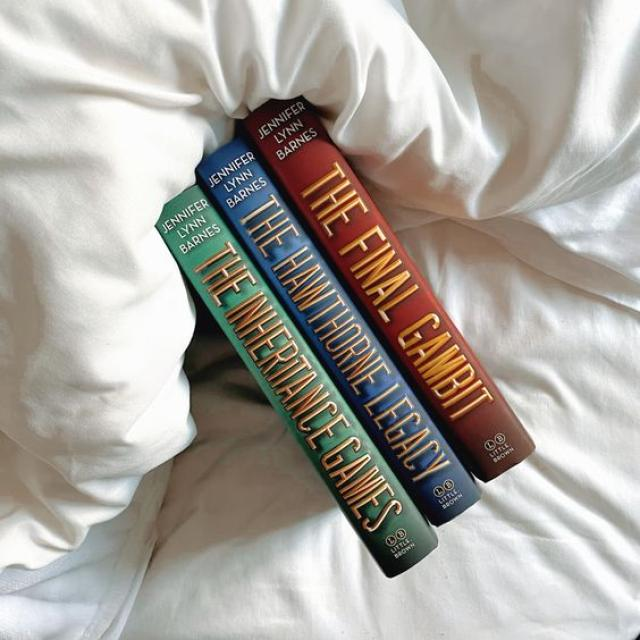book: (249, 95, 533, 488), (159, 184, 437, 575), (195, 139, 477, 524)
